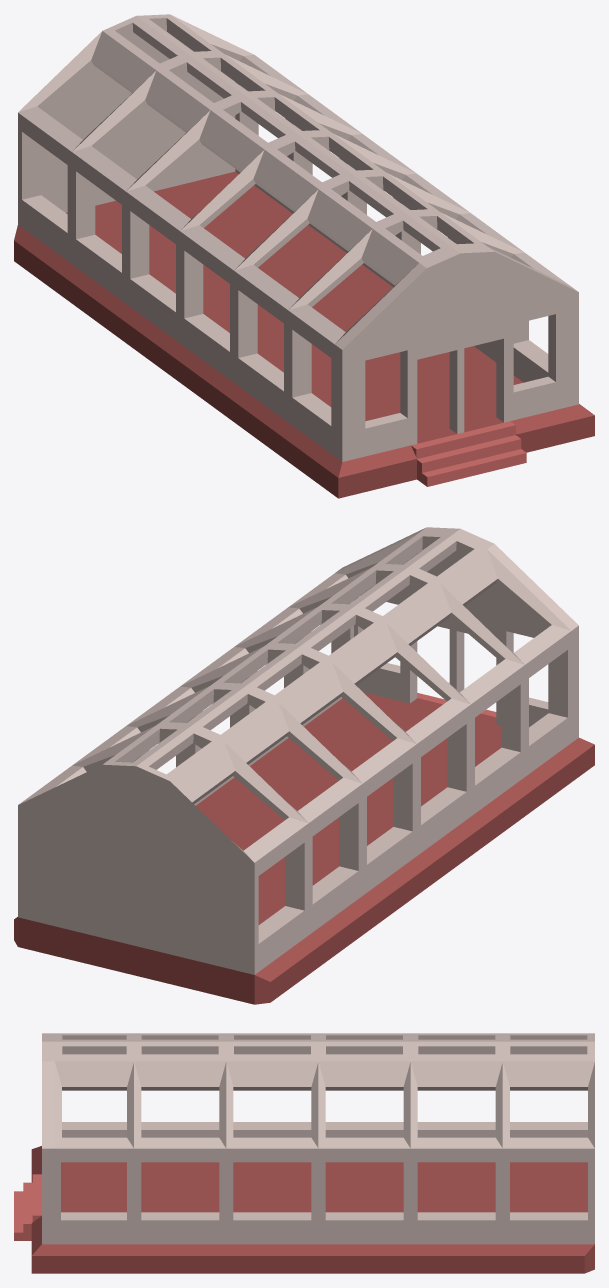
Rendered from prop_greenhouse.fbx.
The picture shows the model from 3 angles, top to bottom: view 1: azimuth 30°, elevation 25°; view 2: azimuth 150°, elevation 25°; view 3: azimuth 270°, elevation 25°; orthographic projection. The views are drawn at different scales.
Parts seen in each view (by area): view 1: greenhouse_combined; view 2: greenhouse_combined; view 3: greenhouse_combined.
Boxes of the visible parts, bbox=[...] form: greenhouse_combined: bbox=[14, 14, 594, 498]; greenhouse_combined: bbox=[14, 527, 594, 1004]; greenhouse_combined: bbox=[14, 1033, 594, 1273].
Bounding box in the file's own units: 54.22 × 42.33 × 125.
